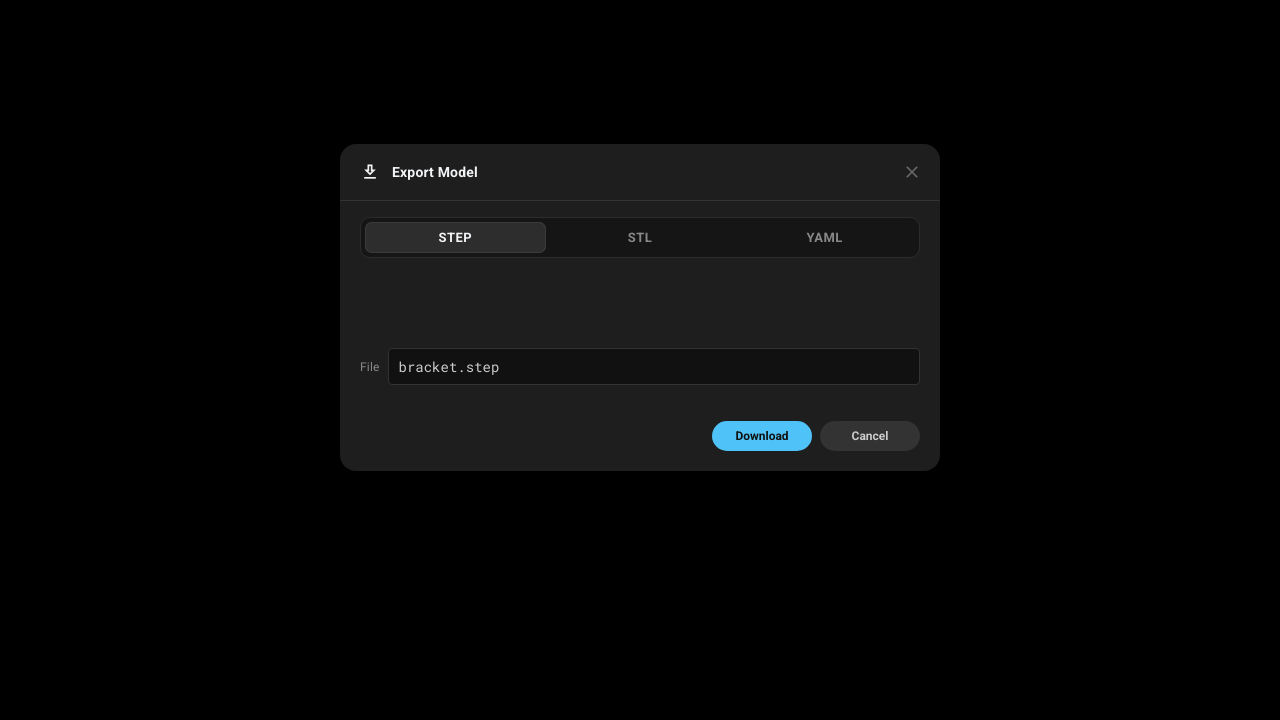
PartExportImport worker export › reports the failure when the worker rejects
The width and height of the screenshot is (1280, 720).
Click the button "Download".
click(762, 436)  # box 712,421 -> 812,451
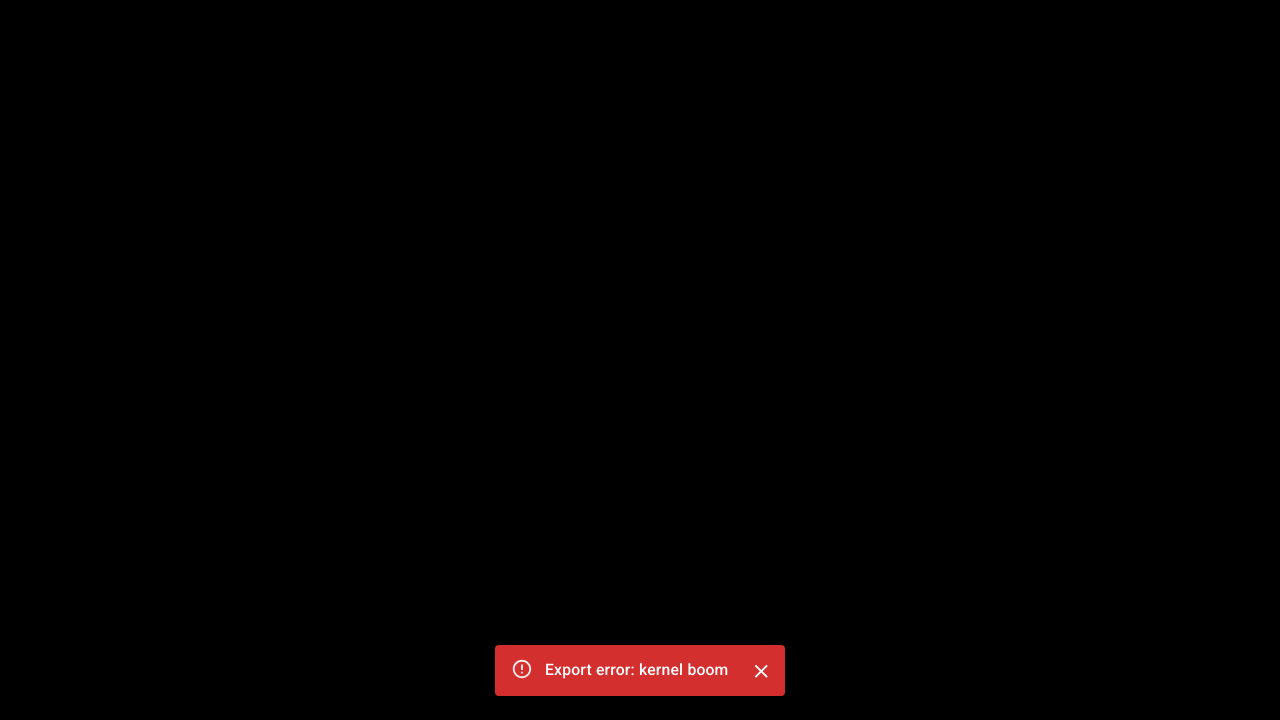
Result: the text "Export error: kernel boom" is shown at 545,660 -> 728,680
Result: the heading "Export Model" is gone
